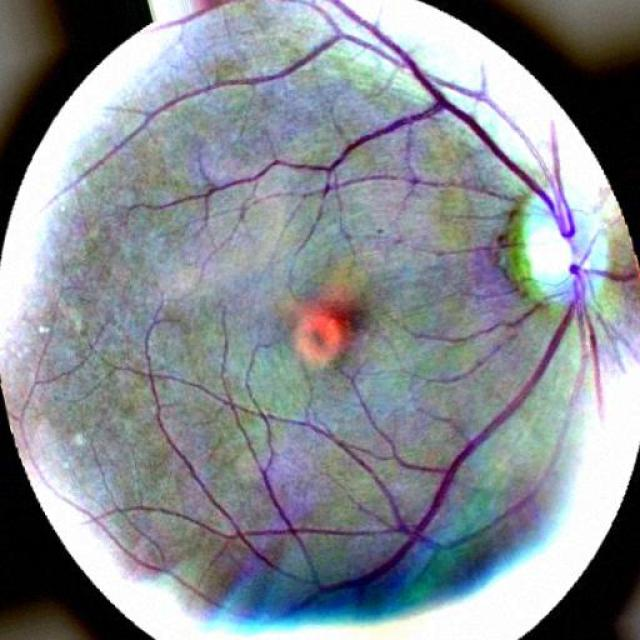Macula: (294, 290, 358, 365)
Nerves: (28, 0, 639, 616)
Optic Disk: (501, 186, 609, 302)
